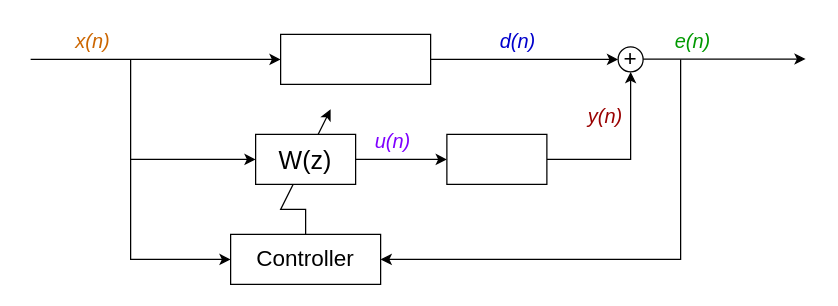
This 838x306 diagram has some shape labels left out. The shapes that lost their labels are listed below. From the top down, each one's box as (x1, y1, x2, y2) in pixels, then its label:
(279, 33, 431, 84): P(z)
(446, 133, 547, 184): S(z)
